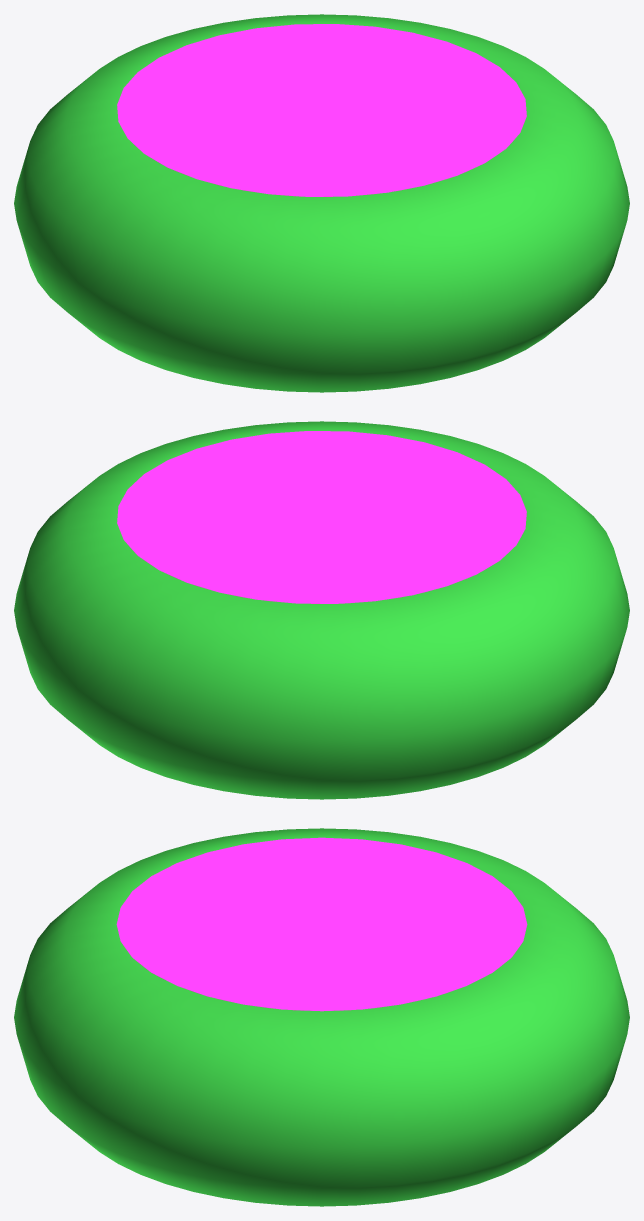
The model's file is bouncer.fbx.
3 renders of one model, top to bottom at view 1: azimuth 30°, elevation 25°; view 2: azimuth 150°, elevation 25°; view 3: azimuth 270°, elevation 25°, orthographic.
Visible parts, largest first — view 1: Bouncer; view 2: Bouncer; view 3: Bouncer.
Part boxes in pixels (x1,y1,x2,y2): Bouncer: (14, 14, 629, 392); Bouncer: (14, 421, 629, 799); Bouncer: (14, 828, 629, 1206).
Bounding box in the file's own units: 30 × 10 × 30.
